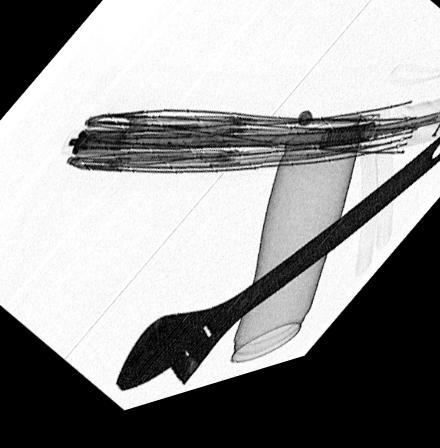Wrench: (112, 158, 440, 401)
